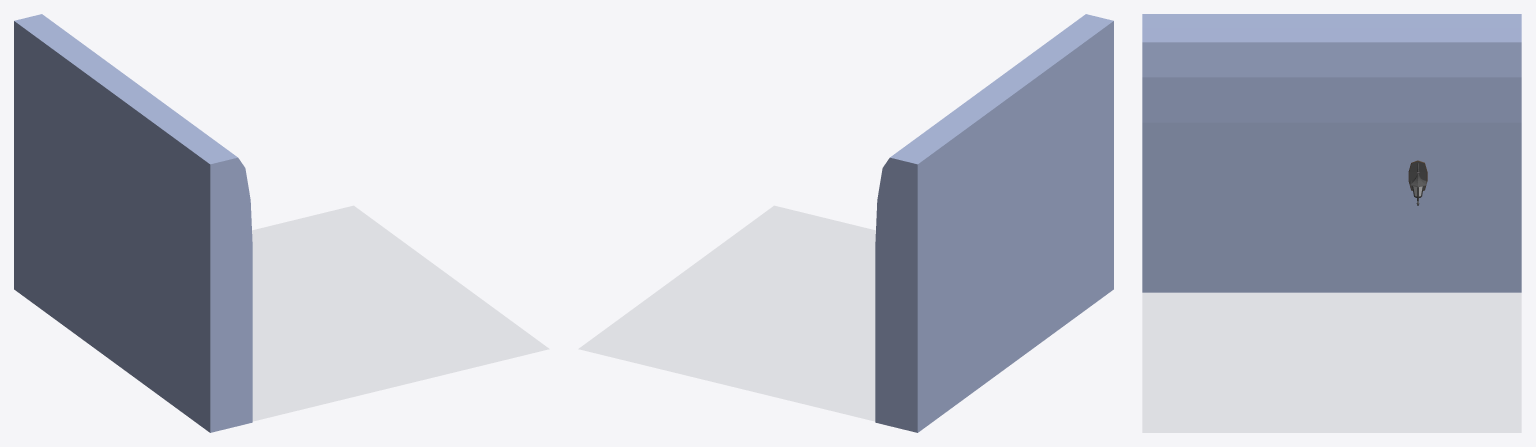
The model's file is labirintus_darabok_test.fbx.
3 renders of one model, left to right at view 1: azimuth 30°, elevation 25°; view 2: azimuth 150°, elevation 25°; view 3: azimuth 270°, elevation 25°, orthographic. The views are drawn at different scales.
Parts seen in each view (by area): view 1: Cube.001, Plane; view 2: Cube.001, Plane; view 3: Cube.001, Plane, FanvcLantern.
Part boxes in pixels (x1,y1,x2,y2): Cube.001: [14, 14, 252, 432]; Plane: [252, 205, 549, 421]; Cube.001: [875, 14, 1113, 432]; Plane: [578, 205, 875, 421]; Cube.001: [1142, 14, 1521, 292]; Plane: [1142, 292, 1521, 432]; FanvcLantern: [1408, 160, 1427, 205].
Bounding box in the file's own units: 800 × 604 × 800.
